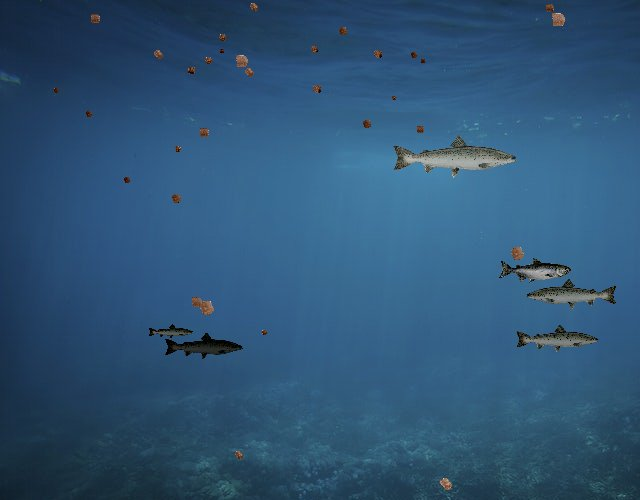Fish: (390, 133, 519, 179), (526, 278, 620, 311), (514, 323, 600, 354), (163, 332, 244, 361), (498, 258, 571, 284), (147, 324, 194, 341)
Pellet: (192, 292, 222, 322), (432, 471, 459, 498), (185, 291, 208, 314), (368, 45, 387, 64), (230, 446, 248, 464), (170, 142, 185, 157), (120, 173, 134, 187), (258, 327, 270, 339)
